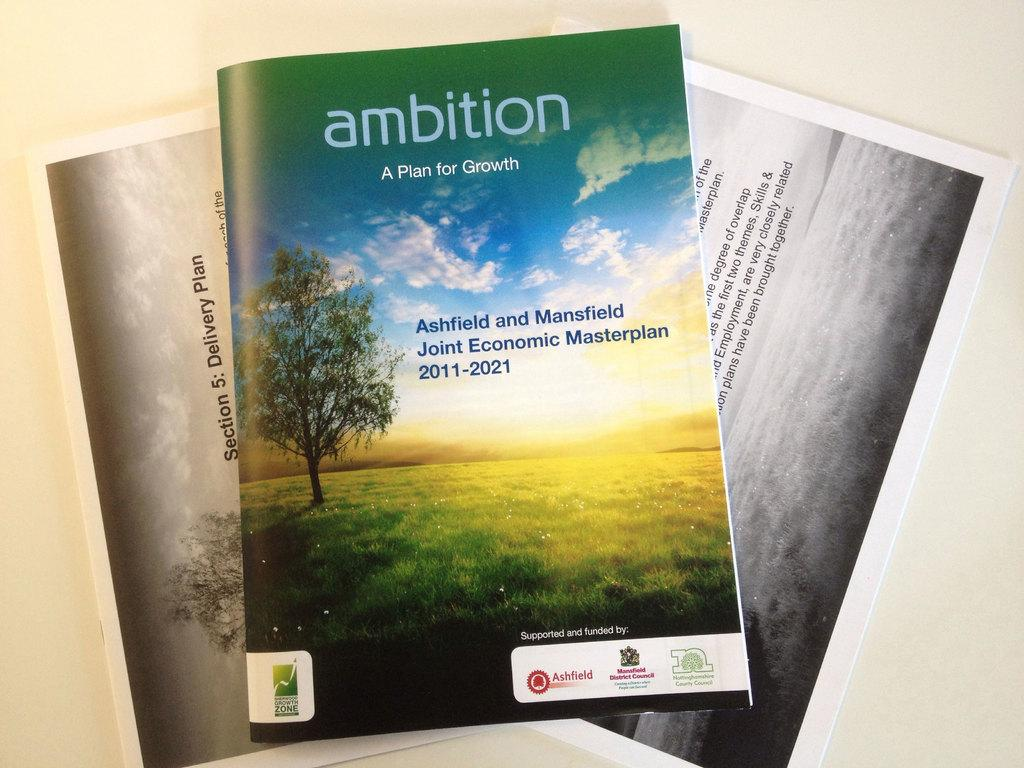book: (149, 39, 848, 725)
